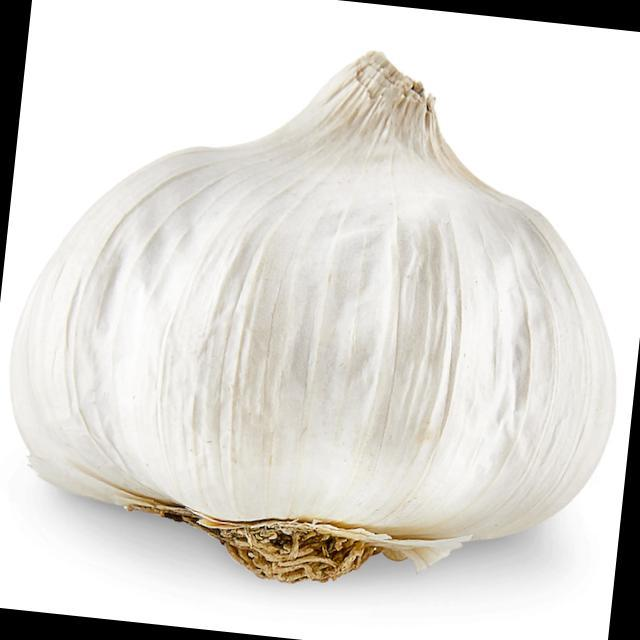garlic: (12, 52, 615, 582)
